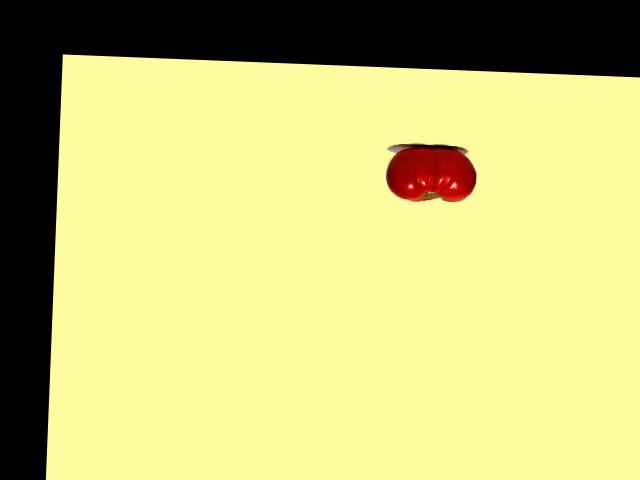tomato: (386, 145, 478, 203)
